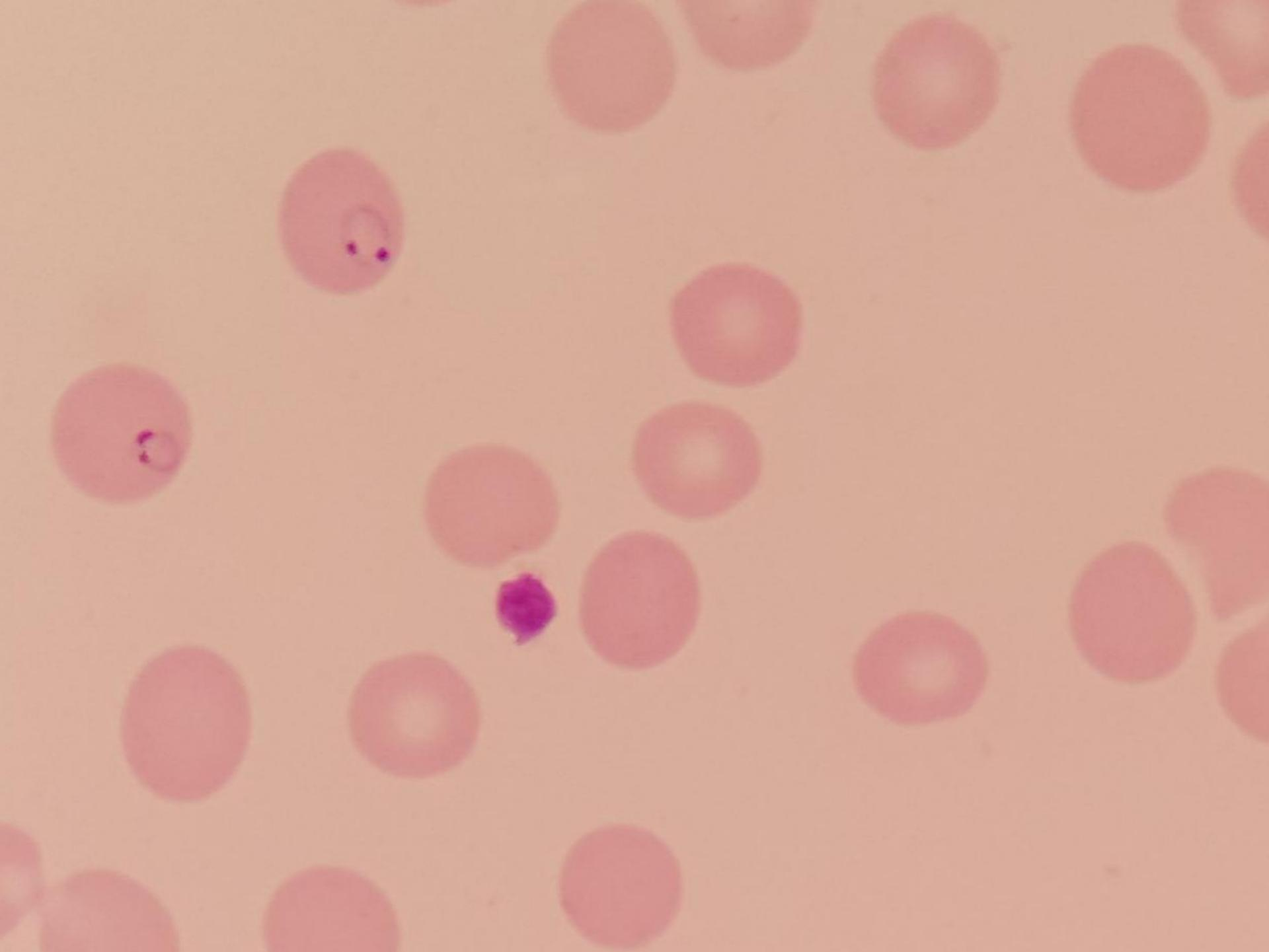Infected: (271, 139, 405, 295), (48, 360, 194, 502)
Uninfected: (1064, 38, 1209, 198), (117, 642, 250, 804), (414, 443, 564, 572), (1066, 536, 1190, 686), (543, 0, 676, 137), (346, 646, 485, 777), (872, 16, 1003, 153), (577, 525, 698, 671), (663, 263, 809, 381), (630, 399, 761, 527), (850, 604, 987, 726), (560, 824, 683, 952), (1172, 463, 1269, 619), (256, 862, 392, 952)
